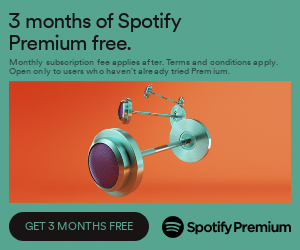fake_button: (6, 210, 156, 250)
